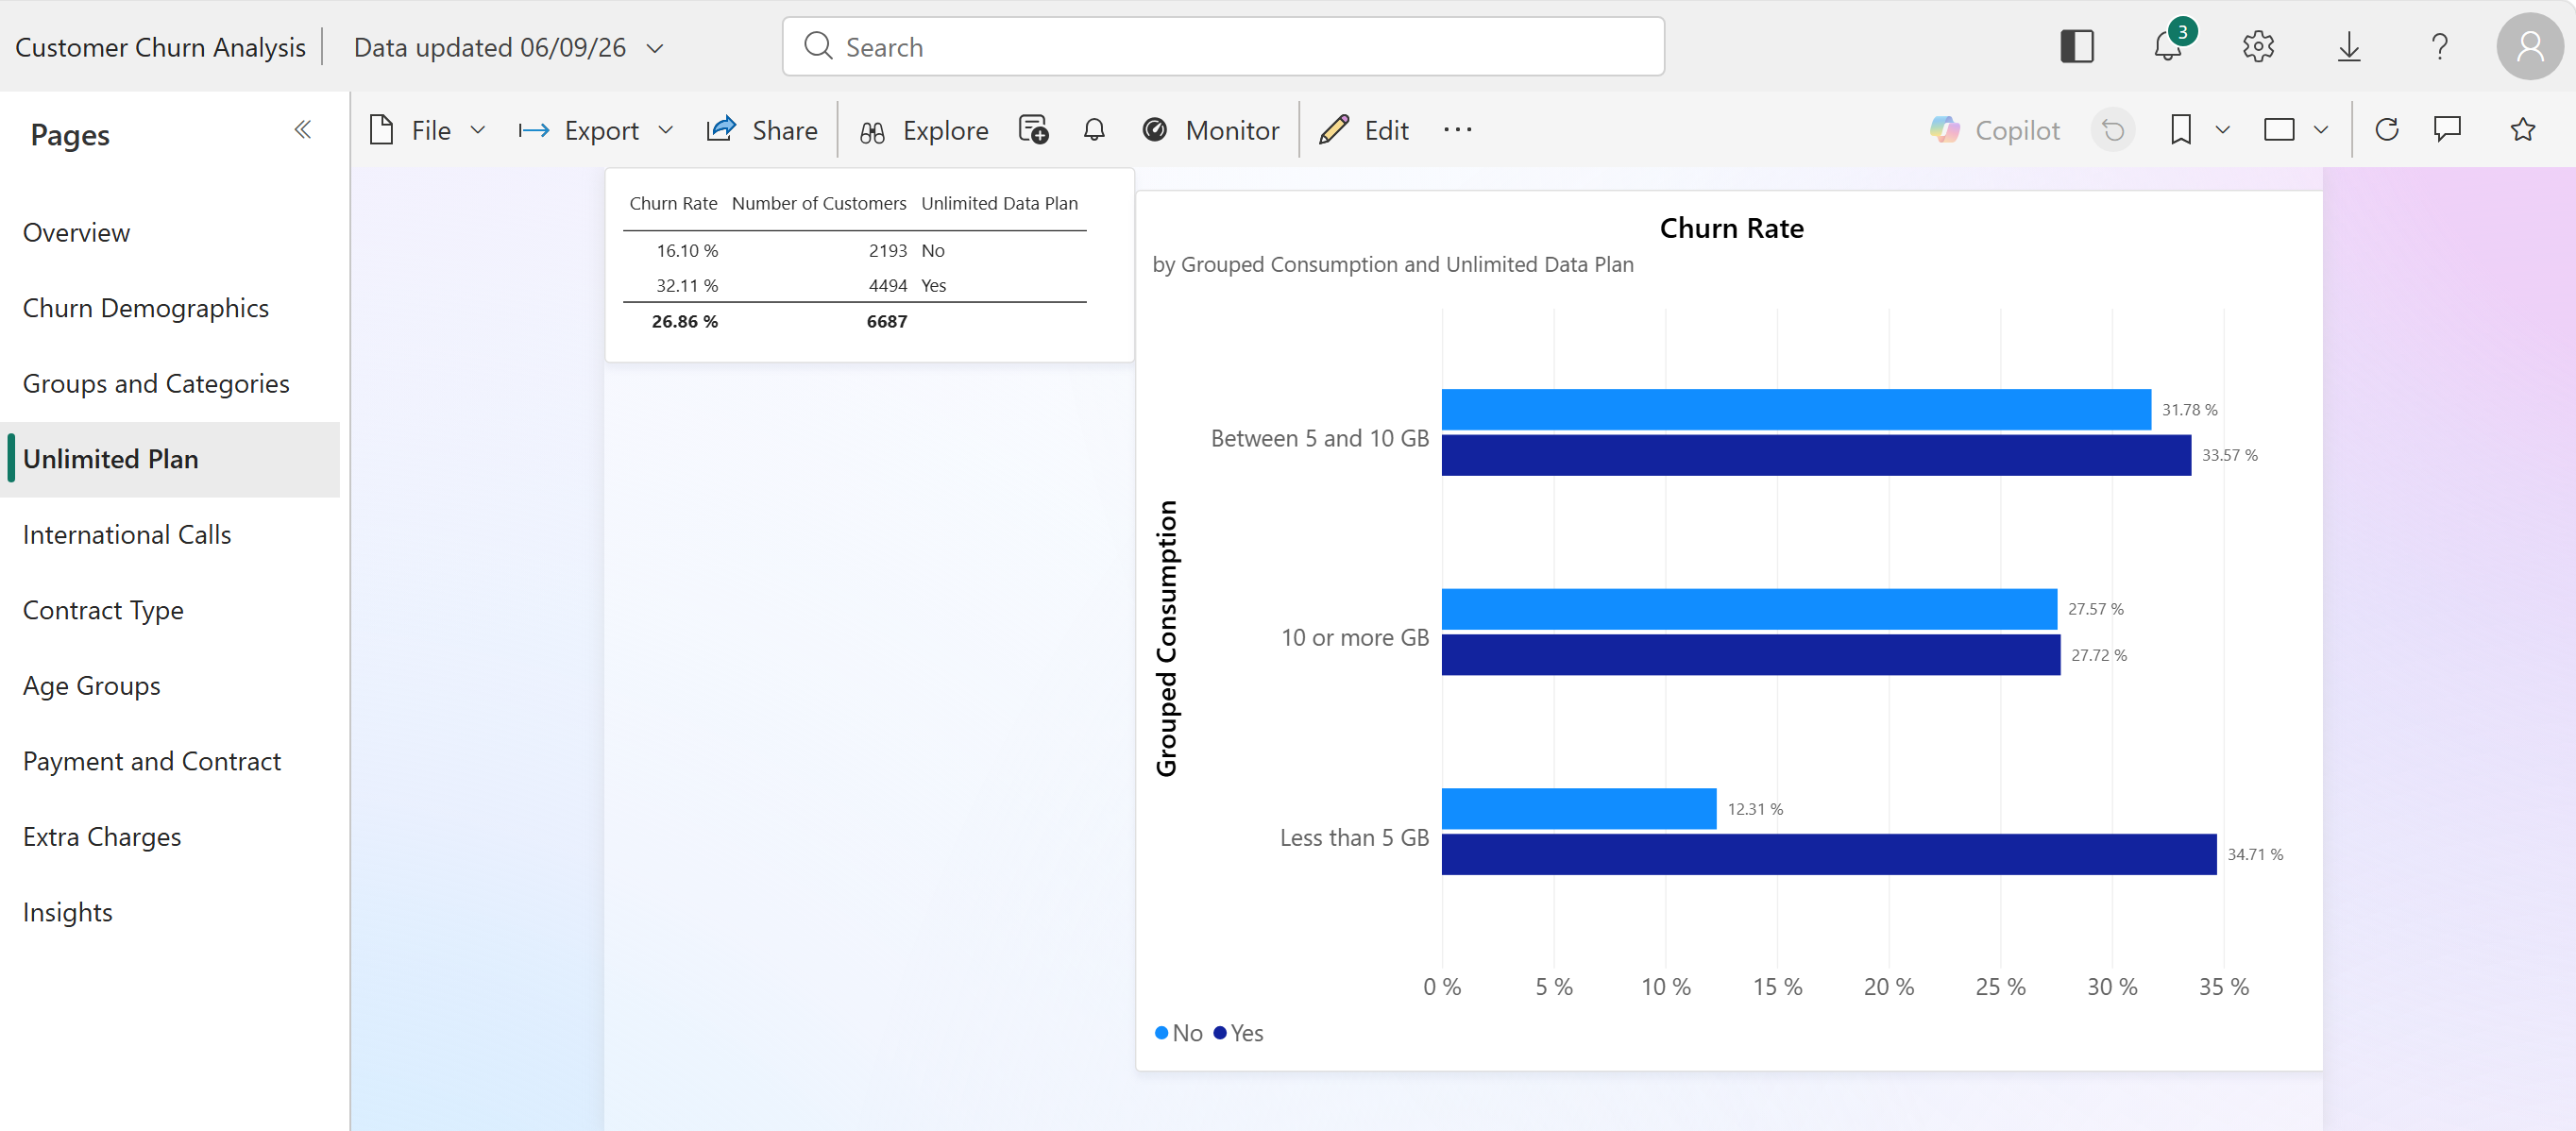

Layout of this report page (visuals, bound fields, positions):
{"tool":"powerbi","page":{"name":"Unlimited Plan","canvas":[1280,720],"ordinal":3},"visuals":[{"type":"tableEx","fields":{"Values":["Databel - Data.Churn Rate","Databel - Data.Number of Costumers","Databel - Data.Unlimited Data Plan"]},"box":[0,0,380.6,149.8],"z":0},{"type":"clusteredBarChart","fields":{"Category":["Databel - Data.Grouped Consumption"],"Series":["Databel - Data.Unlimited Data Plan"],"Y":["Databel - Data.Churn Rate"]},"box":[380.6,16.8,900.4,652.7],"z":1000}]}

Visuals, with their boxes on the page's 1280x720 design canvas (x1, y1, x2, y2). These are canvas units, not pixel positions in the 2576x1131 screenshot, which may show the page scaled, cropped or inside an application window:
tableEx - Databel - Data.Churn Rate x Databel - Data.Number of Costumers: 0:0:381:150
clusteredBarChart - Databel - Data.Grouped Consumption x Databel - Data.Unlimited Data Plan: 381:17:1281:670
